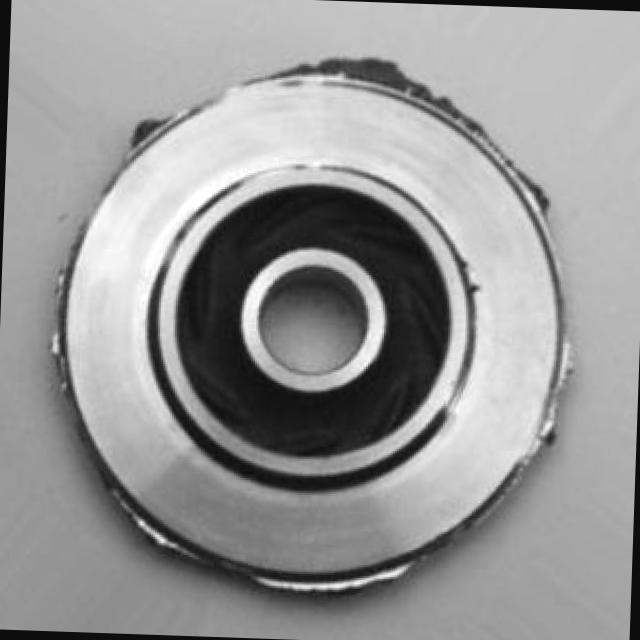Defect: (302, 54, 444, 95)
